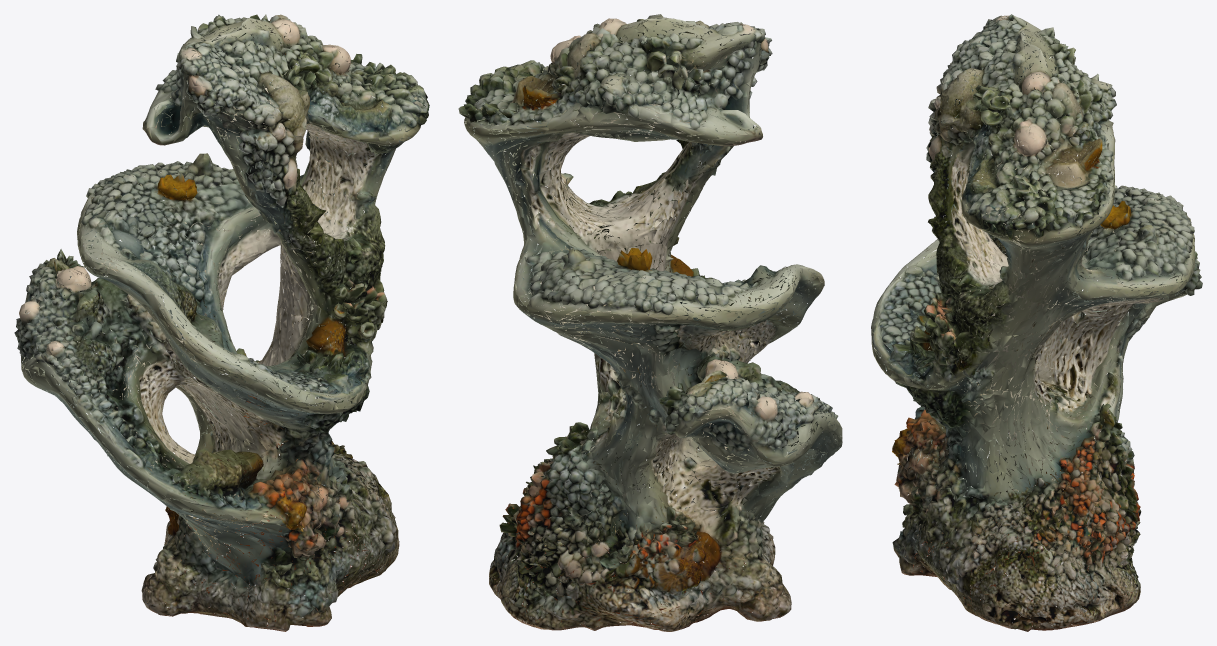
The model's file is category-5.glb.
3 renders of one model, left to right at view 1: azimuth 30°, elevation 25°; view 2: azimuth 150°, elevation 25°; view 3: azimuth 270°, elevation 25°, orthographic. The views are drawn at different scales.
Visible parts, largest first — view 1: tripo_node_5f59d7ea; view 2: tripo_node_5f59d7ea; view 3: tripo_node_5f59d7ea.
Part boxes in pixels (<box>): tripo_node_5f59d7ea: <box>14,14,429,631</box>; tripo_node_5f59d7ea: <box>458,14,842,631</box>; tripo_node_5f59d7ea: <box>871,14,1202,631</box>.
Size of the model in its own units: 0.6524 by 0.9836 by 0.5623.
Materials: 1 (1 with a texture image).
